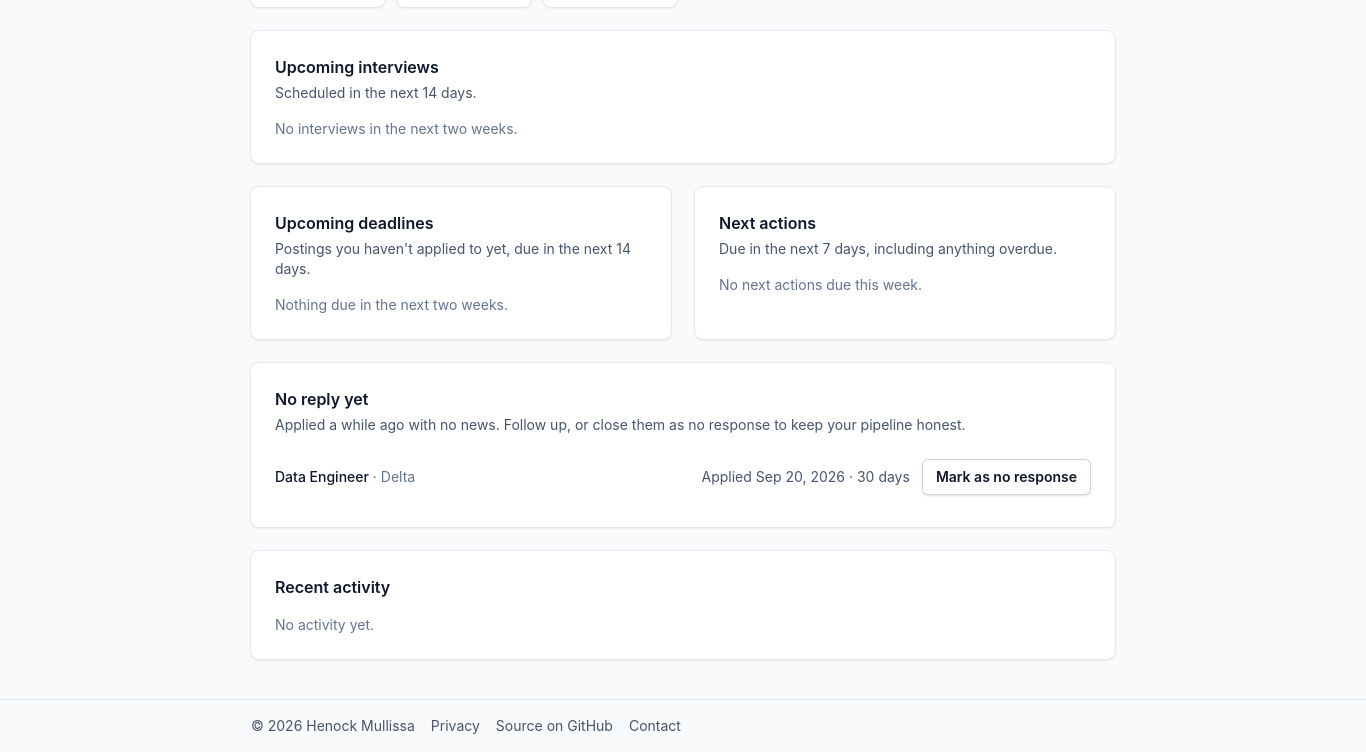
Scenario: Dashboard › closes a stale application as no response
The image size is (1366, 752).
(page scrolled)
Click the button with aria-label "Mark Data Engineer as no response": (1006, 477) [922,459,1091,495]
(page scrolled)
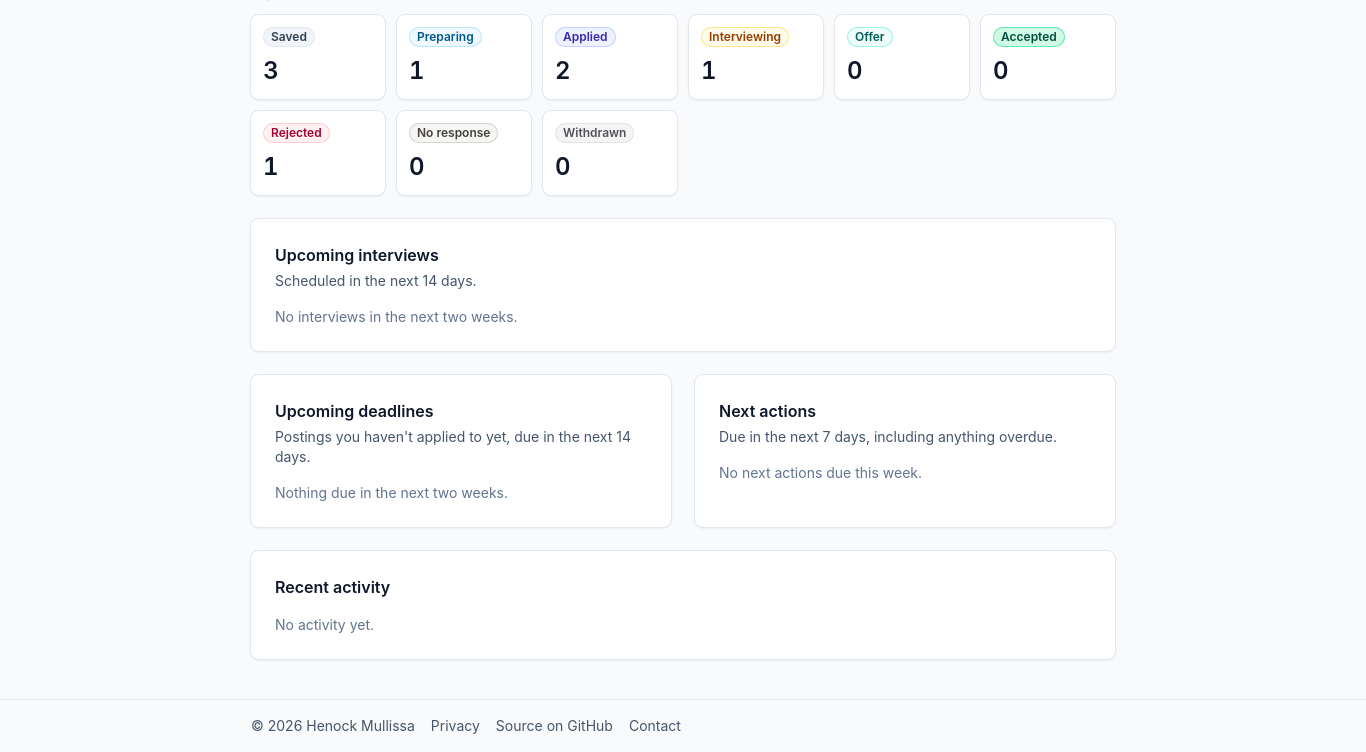
expect the heading "No reply yet" is gone: met
